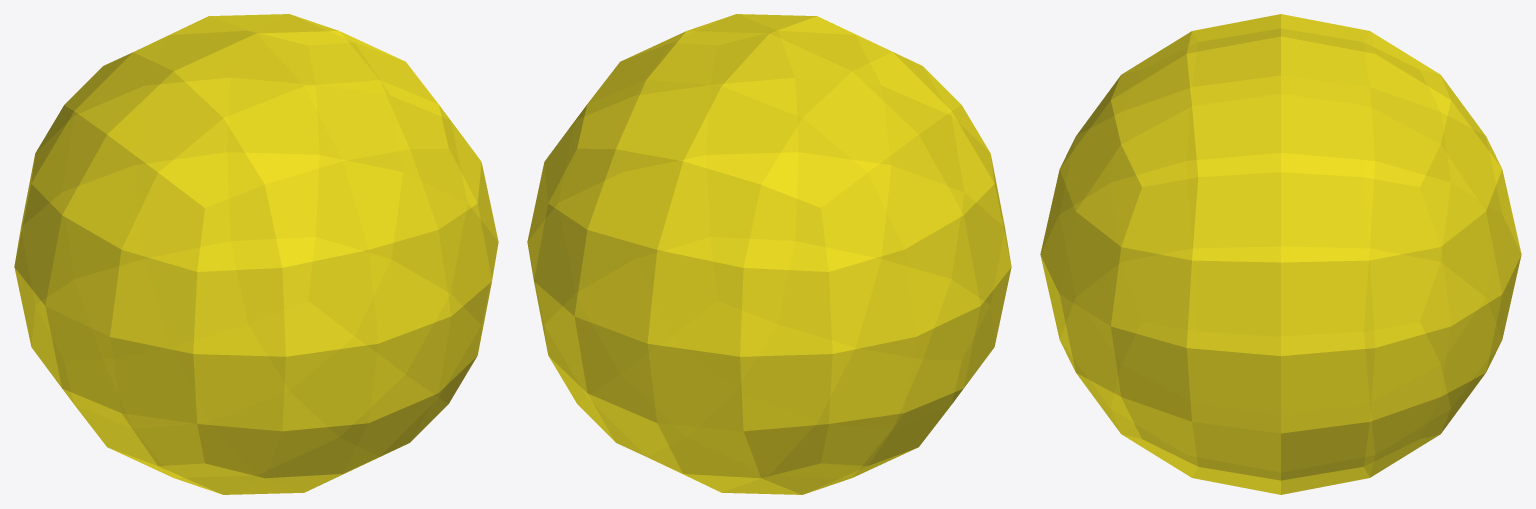
Rendered from holy_aura.fbx.
The picture shows the model from 3 angles, left to right: view 1: azimuth 30°, elevation 25°; view 2: azimuth 150°, elevation 25°; view 3: azimuth 270°, elevation 25°; orthographic projection.
Visible parts, largest first — view 1: Cube; view 2: Cube; view 3: Cube.
Part boxes in pixels (x1,y1,x2,y2): Cube: (14,14,498,494); Cube: (527,14,1011,494); Cube: (1040,14,1521,494).
Size of the model in its own units: 171 by 171 by 171.
